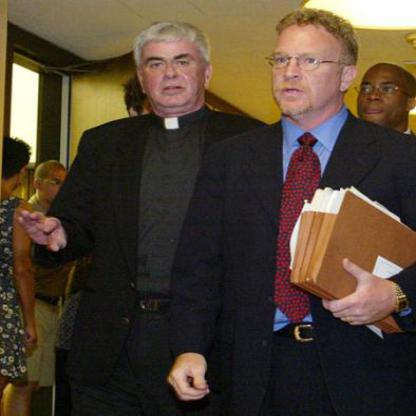face: (265, 14, 347, 120), (140, 23, 209, 109), (356, 63, 411, 130), (42, 163, 73, 205)
